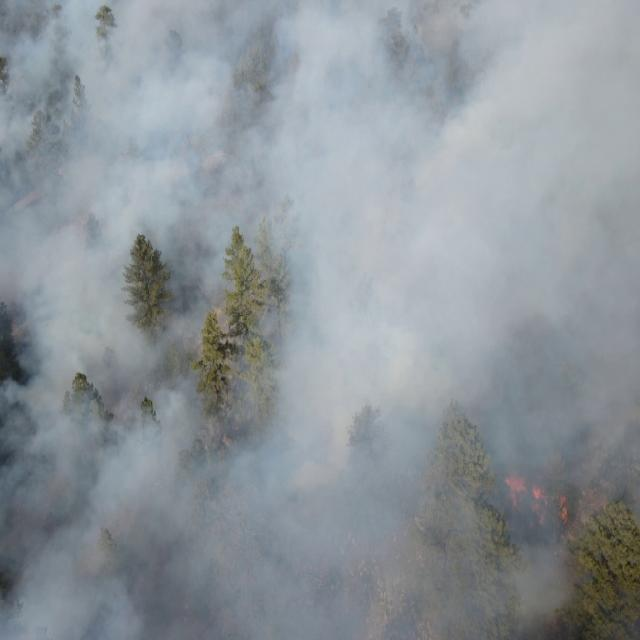fire: (502, 473, 573, 529)
smoke: (1, 0, 584, 640), (582, 0, 640, 506)
